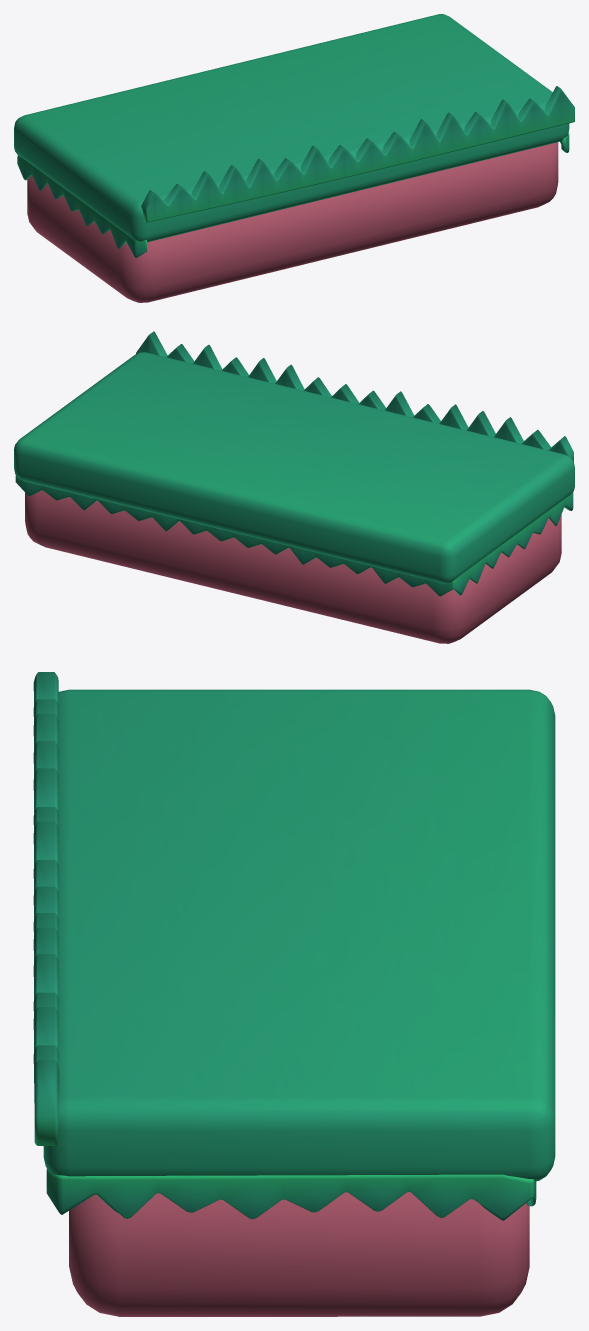
The model's file is Platform_B.fbx.
3 views of the same model, one above another, from view 1: azimuth 30°, elevation 25°; view 2: azimuth 150°, elevation 25°; view 3: azimuth 270°, elevation 25° (orthographic). The views are drawn at different scales.
Parts seen in each view (by area): view 1: Platform_B, bottom_B, Grassplane.003, Grassplane.001; view 2: Platform_B, bottom_B, Grassplane.001, Grassplane.003; view 3: Platform_B, bottom_B, Grassplane.001, Grassplane.003.
Boxes of the visible parts, x1,y1,x2,y2 form: Platform_B: (14, 14, 569, 242); bottom_B: (27, 142, 558, 302); Grassplane.003: (141, 86, 574, 222); Grassplane.001: (17, 133, 569, 257); Platform_B: (14, 352, 574, 583); bottom_B: (25, 490, 561, 643); Grassplane.001: (15, 476, 573, 596); Grassplane.003: (136, 331, 573, 461); Platform_B: (43, 689, 555, 1181); bottom_B: (69, 1192, 529, 1316); Grassplane.001: (46, 1169, 536, 1220); Grassplane.003: (33, 672, 59, 1145).
Size of the model in its own units: 2.01 by 0.5744 by 1.04.
Materials: 1 (1 with a texture image).
